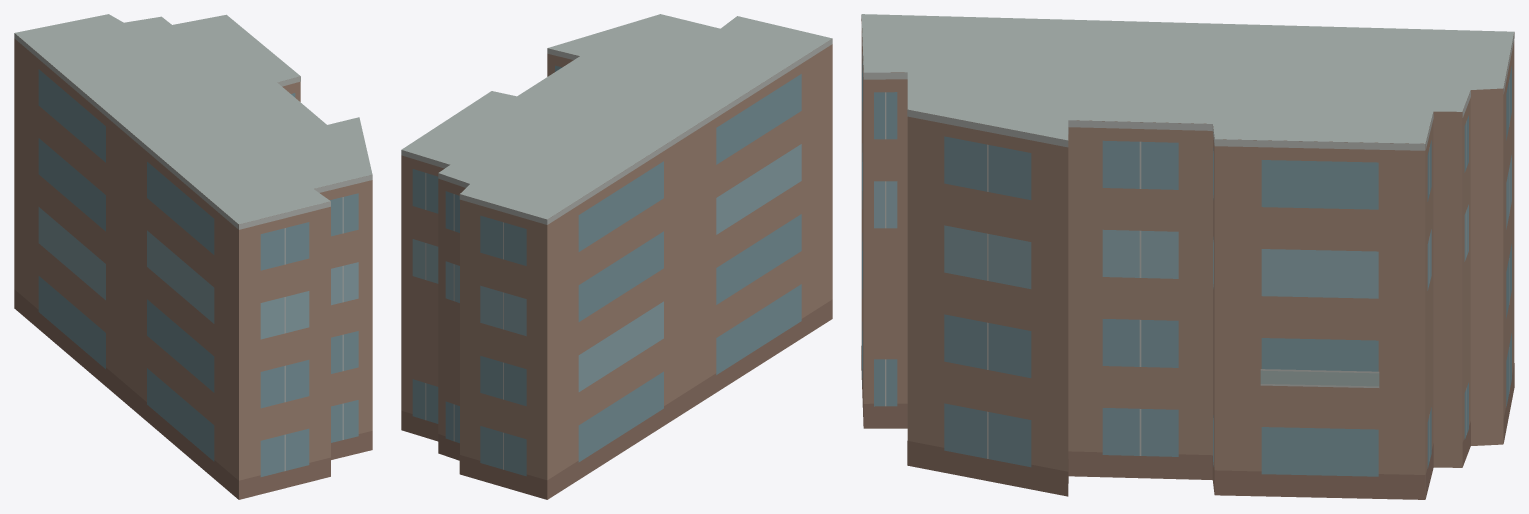
The model's file is survey-upis-32575813.glb.
3 views of the same model, side by side, from view 1: azimuth 30°, elevation 25°; view 2: azimuth 150°, elevation 25°; view 3: azimuth 270°, elevation 25° (orthographic). The views are drawn at different scales.
Parts seen in each view (by area): view 1: survey-upis-32575813.tmp; view 2: survey-upis-32575813.tmp; view 3: survey-upis-32575813.tmp.
Boxes of the visible parts, x1=… form: survey-upis-32575813.tmp: x1=14, y1=14, x2=372, y2=499; survey-upis-32575813.tmp: x1=401, y1=14, x2=832, y2=499; survey-upis-32575813.tmp: x1=861, y1=14, x2=1514, y2=499.
Bounding box in the file's own units: 9.7 × 12.4 × 20.61.
